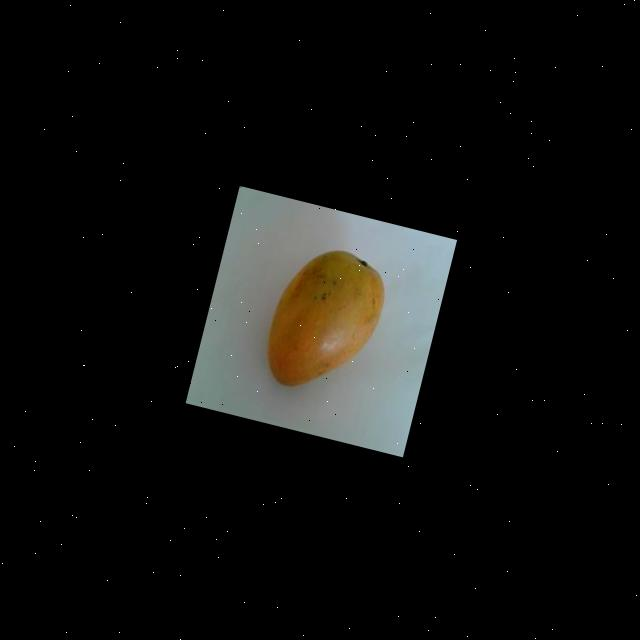Mango: (256, 235, 394, 402)
